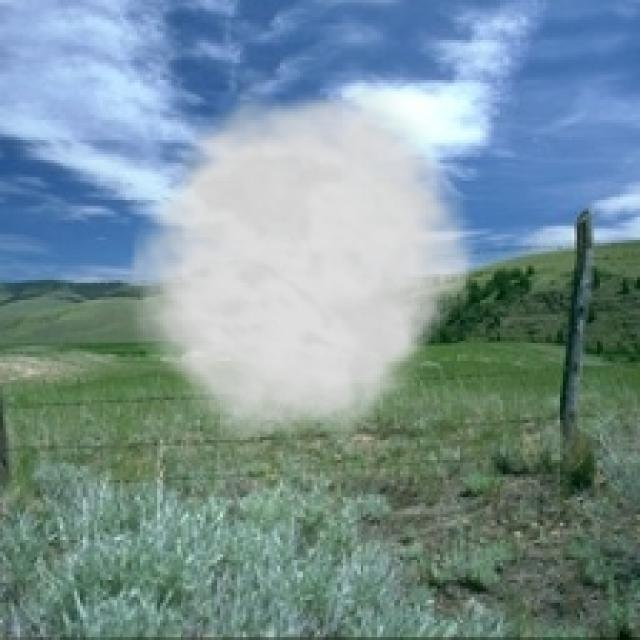smoke: (111, 71, 486, 448)
